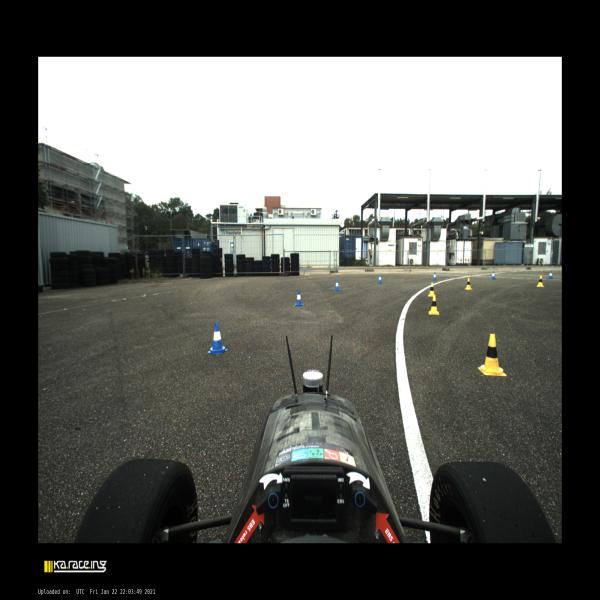blue_cone: (207, 322, 228, 354), (294, 290, 304, 306), (334, 279, 340, 291), (490, 271, 496, 279), (432, 272, 437, 281), (548, 270, 553, 279), (378, 274, 382, 283)
yellow_cone: (478, 334, 507, 376), (429, 294, 439, 314), (428, 282, 434, 296), (465, 278, 472, 290), (537, 276, 544, 287)
